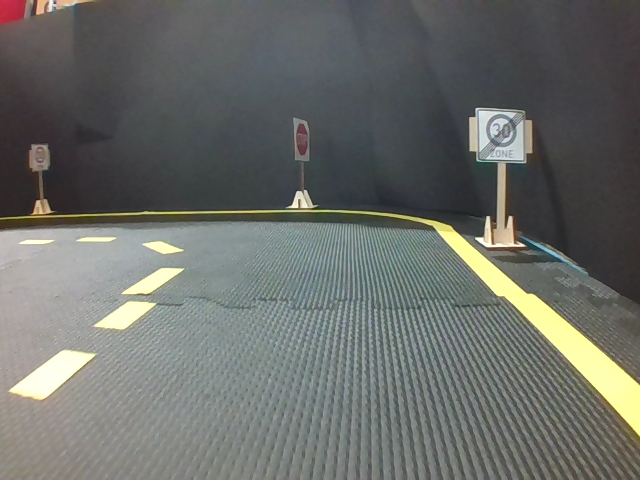30: (31, 144, 49, 170)
no30: (477, 108, 526, 162)
stop: (295, 120, 310, 160)
